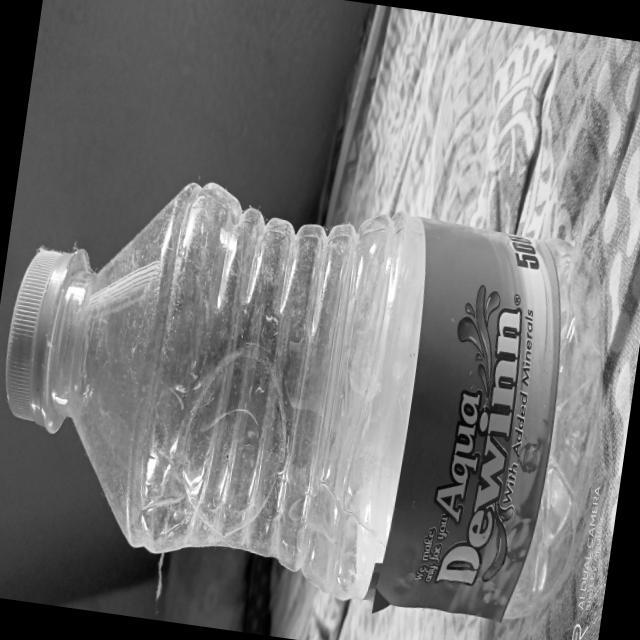good: (0, 156, 628, 640)
